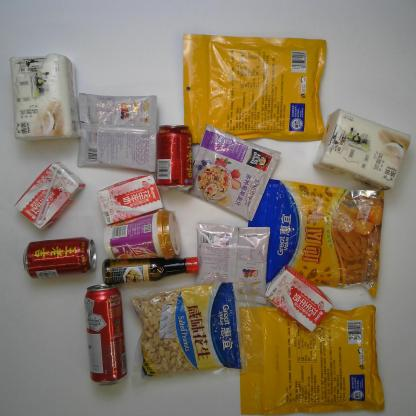Alcohol: (82, 280, 130, 386)
Dried Fruit: (172, 26, 334, 151), (240, 176, 388, 304), (234, 300, 388, 416), (121, 280, 252, 389)
Drink: (21, 232, 97, 284), (152, 120, 196, 194)
Instant Drink: (178, 120, 282, 222), (70, 85, 162, 174), (193, 220, 274, 312), (102, 207, 185, 263)
Milk: (12, 160, 87, 232), (264, 262, 336, 336), (94, 171, 166, 228)
Seasoner: (100, 251, 202, 291)
Tissue: (310, 107, 412, 192), (7, 51, 87, 147)
